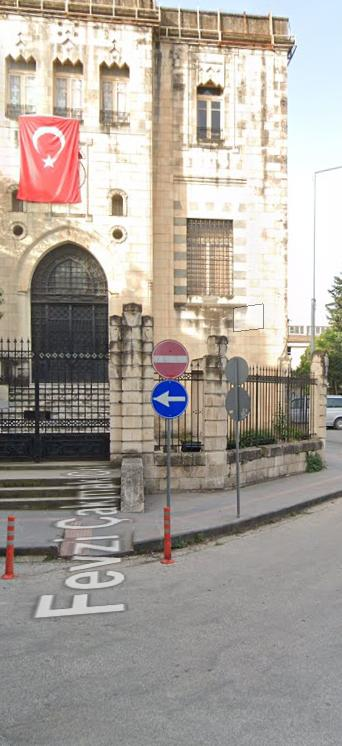turnleft: (150, 378, 188, 420)
